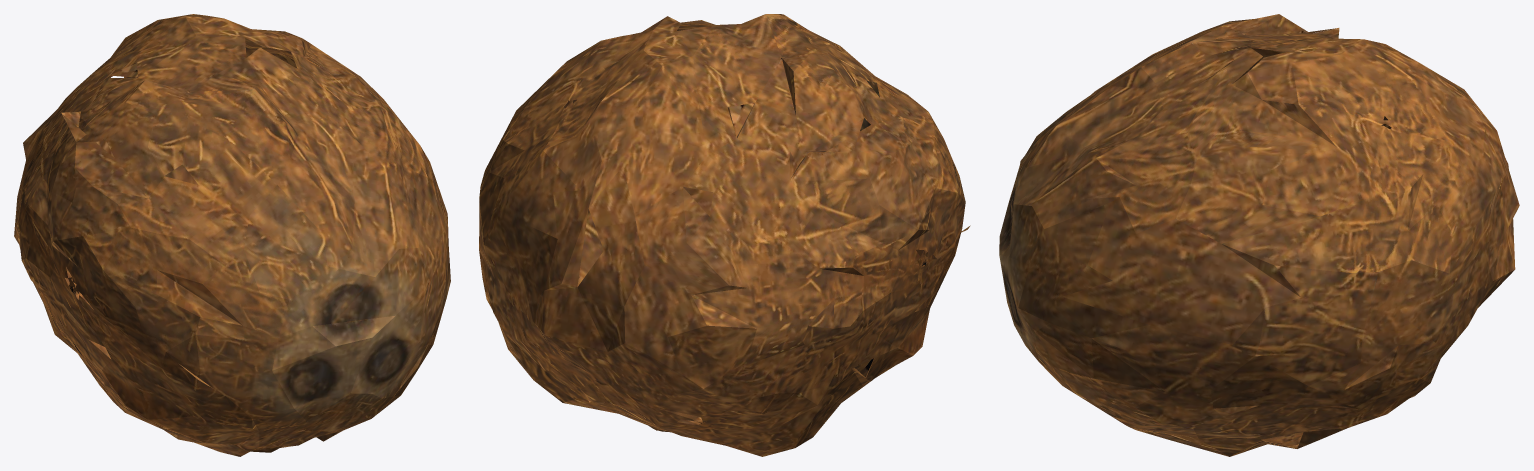
File: coconut.glb
3 views of the same model, side by side, from view 1: azimuth 30°, elevation 25°; view 2: azimuth 150°, elevation 25°; view 3: azimuth 270°, elevation 25° (orthographic). The views are drawn at different scales.
Visible parts, largest first — view 1: output_unwrapped; view 2: output_unwrapped; view 3: output_unwrapped.
Part boxes in pixels (x1=…): output_unwrapped: x1=14, y1=14, x2=450, y2=456; output_unwrapped: x1=479, y1=14, x2=970, y2=456; output_unwrapped: x1=999, y1=14, x2=1519, y2=456.
Bounding box in the file's own units: 1.57 × 1.56 × 1.85.
Materials: 1 (1 with a texture image).
